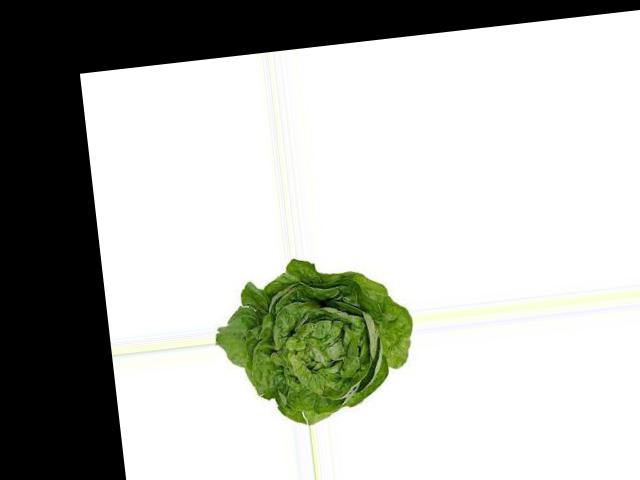lettuce: (220, 280, 387, 429)
